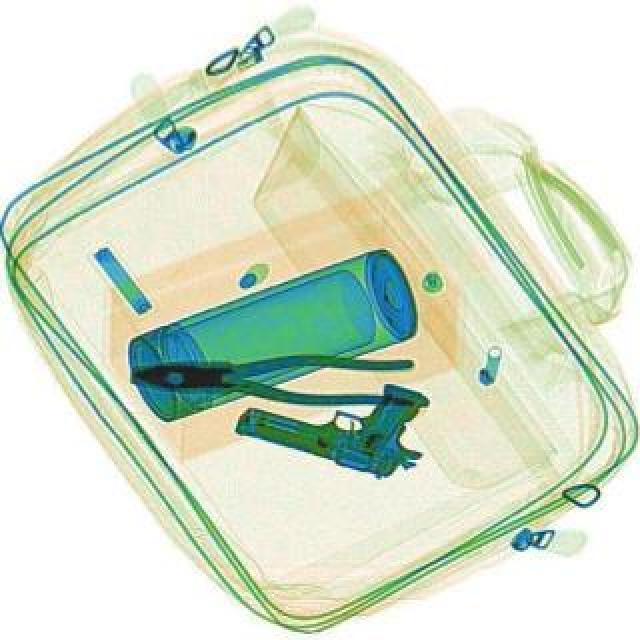gun: (230, 344, 442, 488)
wrench: (128, 350, 428, 406)
